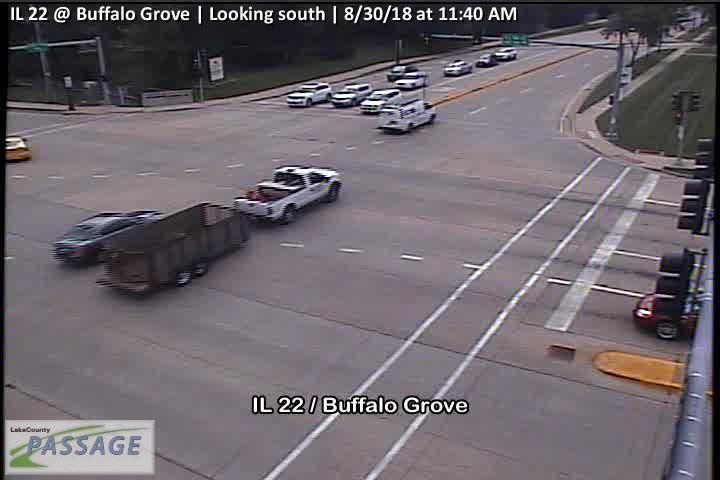SUV: (378, 96, 438, 133), (285, 81, 332, 107), (360, 88, 402, 113), (330, 82, 372, 106), (394, 71, 428, 89), (495, 46, 517, 61)
Sedan: (52, 208, 166, 262), (6, 136, 32, 162), (386, 64, 419, 81), (443, 60, 473, 76), (476, 52, 496, 67)
Truck: (95, 165, 342, 296)
